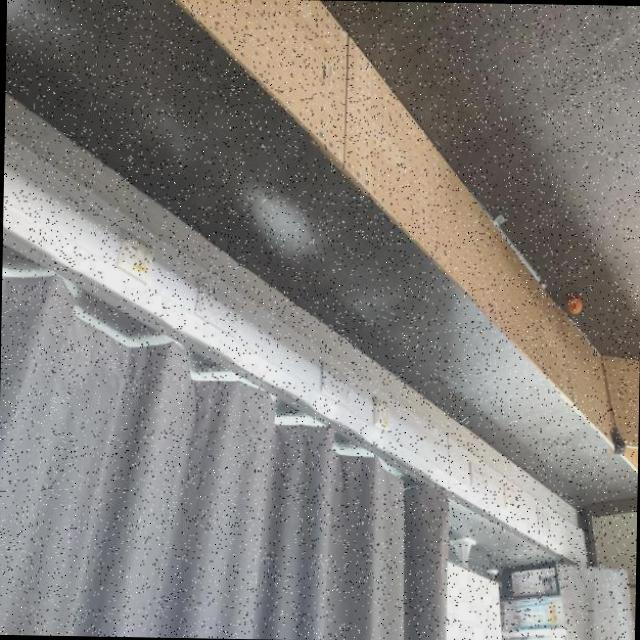ping-pong-ball: (565, 296, 581, 316)
